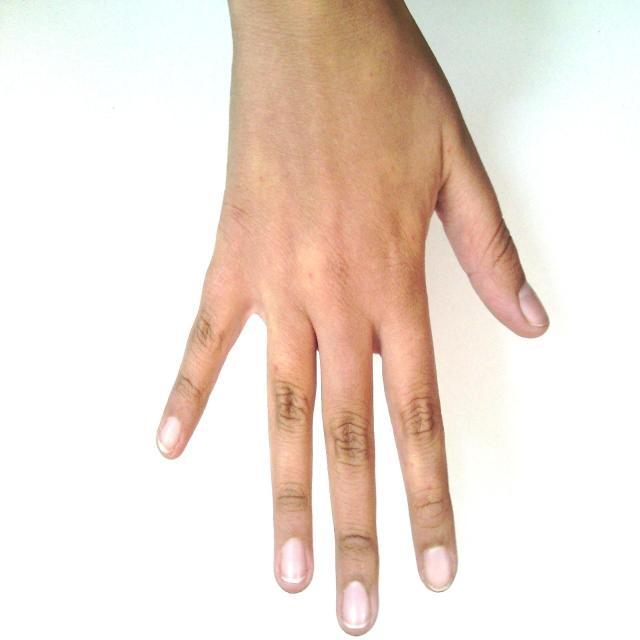Fingernail: (342, 582, 369, 628), (280, 538, 307, 582), (424, 547, 452, 589), (520, 285, 548, 326), (159, 419, 180, 451)
